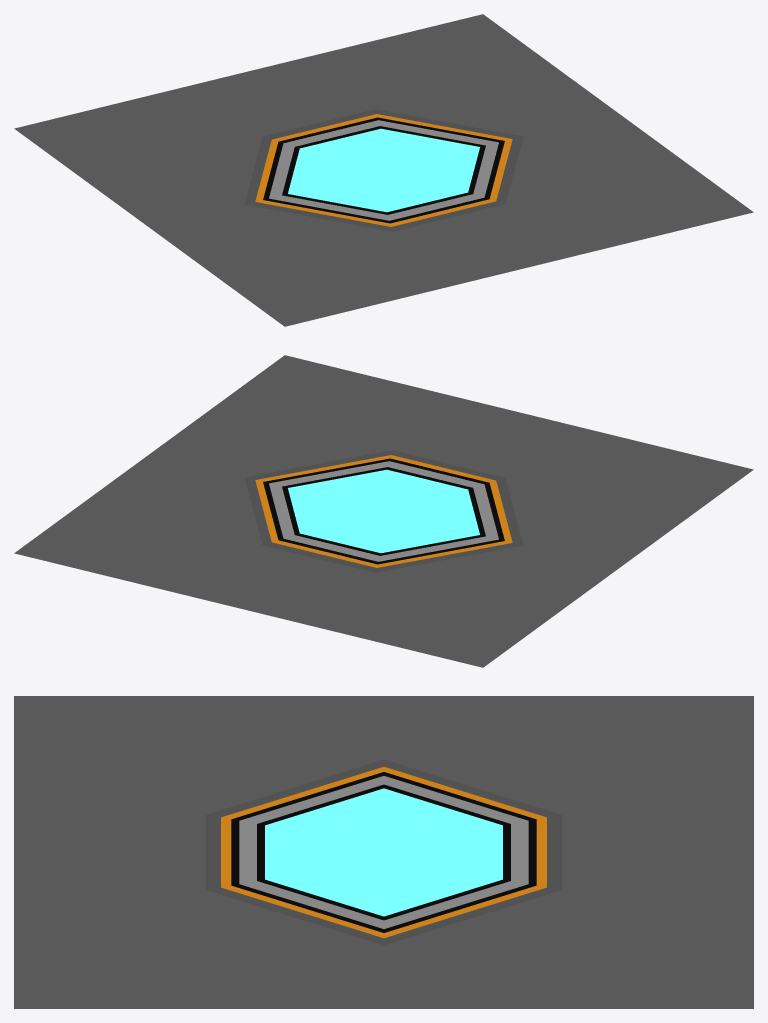
File: Environment2_Ground_TileSmallHex.fbx
The picture shows the model from 3 angles, top to bottom: view 1: azimuth 30°, elevation 25°; view 2: azimuth 150°, elevation 25°; view 3: azimuth 270°, elevation 25°; orthographic projection. The views are drawn at different scales.
Parts seen in each view (by area): view 1: SmallGround hex; view 2: SmallGround hex; view 3: SmallGround hex.
Boxes of the visible parts, x1,y1,x2,y2 form: SmallGround hex: [14, 14, 753, 326]; SmallGround hex: [14, 355, 753, 667]; SmallGround hex: [14, 696, 753, 1008].
Bounding box in the file's own units: 2000 × 0.000326 × 2000.
